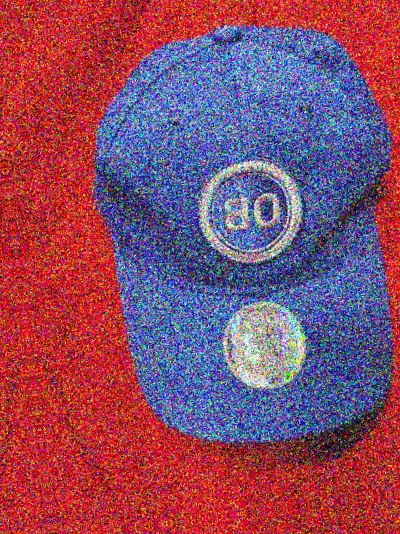Hat: (68, 0, 400, 459)
